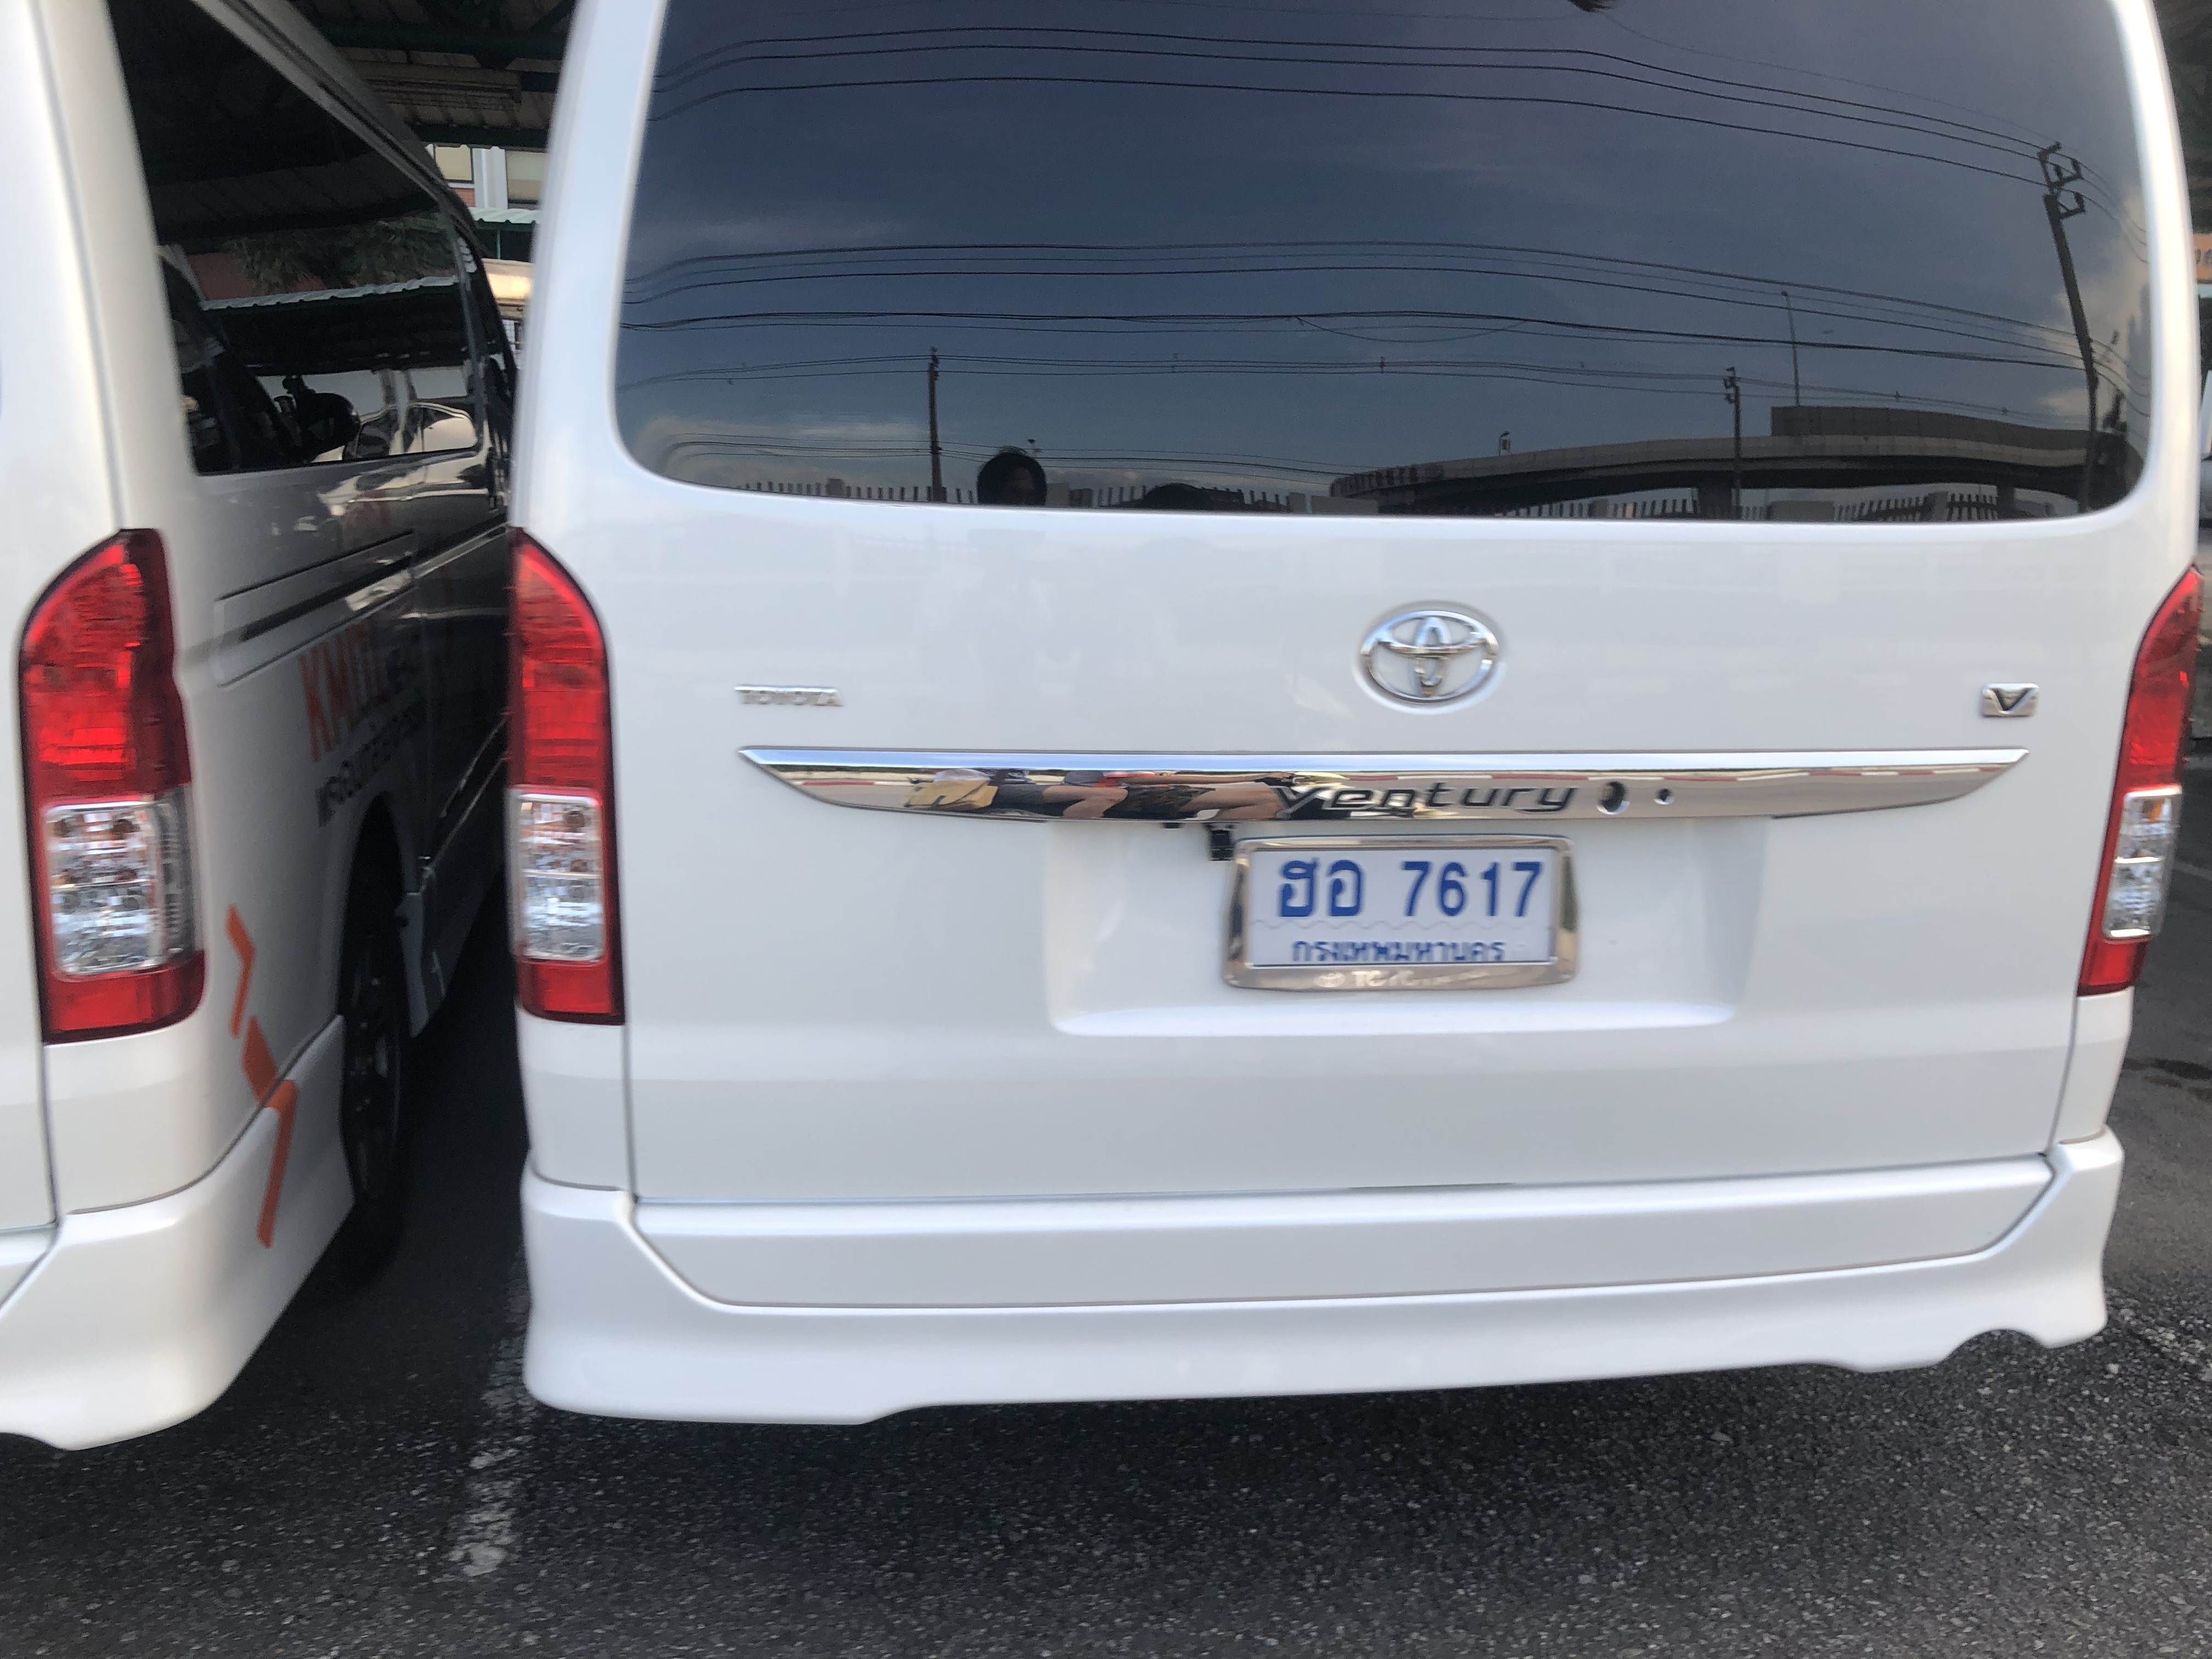out: (1221, 835, 1585, 993), (1256, 850, 1550, 971)
